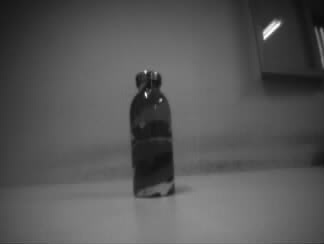Bottle: (128, 70, 176, 197)
